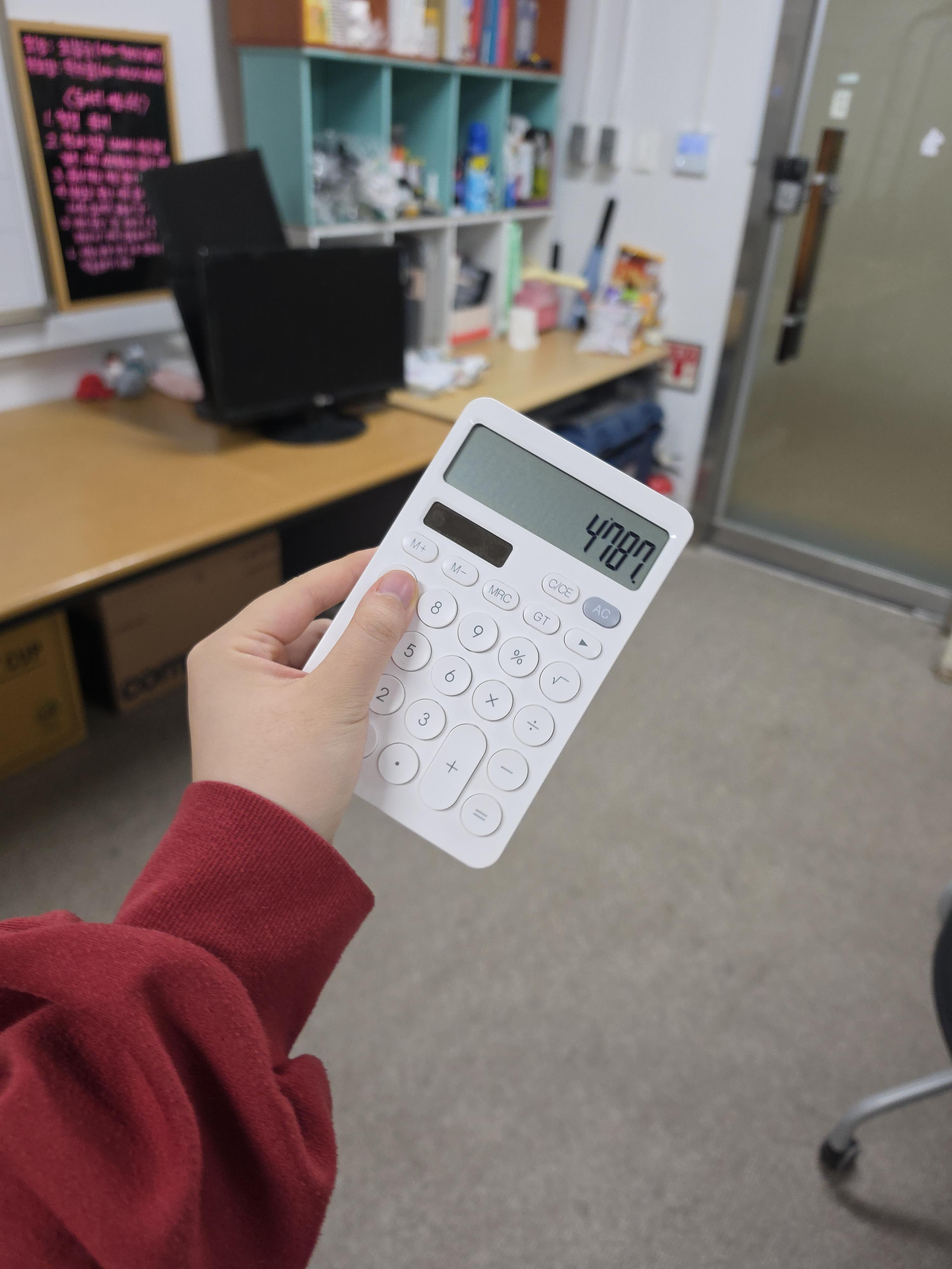calculator: (301, 397, 695, 870)
